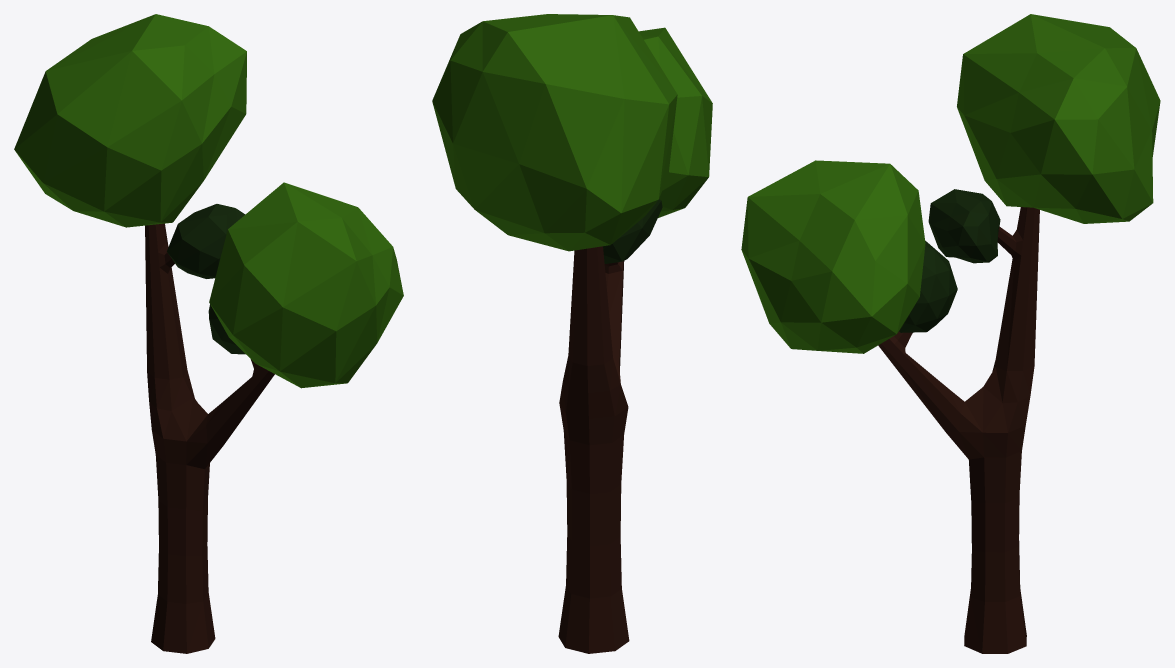
Rendered from slim_tree_green.obj.
3 renders of one model, left to right at view 1: azimuth 30°, elevation 25°; view 2: azimuth 150°, elevation 25°; view 3: azimuth 270°, elevation 25°, orthographic. The views are drawn at different scales.
Parts seen in each view (by area): view 1: t7-green_Cylinder.007; view 2: t7-green_Cylinder.007; view 3: t7-green_Cylinder.007.
Part boxes in pixels (x1,y1,x2,y2): t7-green_Cylinder.007: [14, 14, 403, 653]; t7-green_Cylinder.007: [432, 14, 712, 653]; t7-green_Cylinder.007: [741, 14, 1160, 653].
Bounding box in the file's own units: 4.54 × 10.02 × 6.25.
